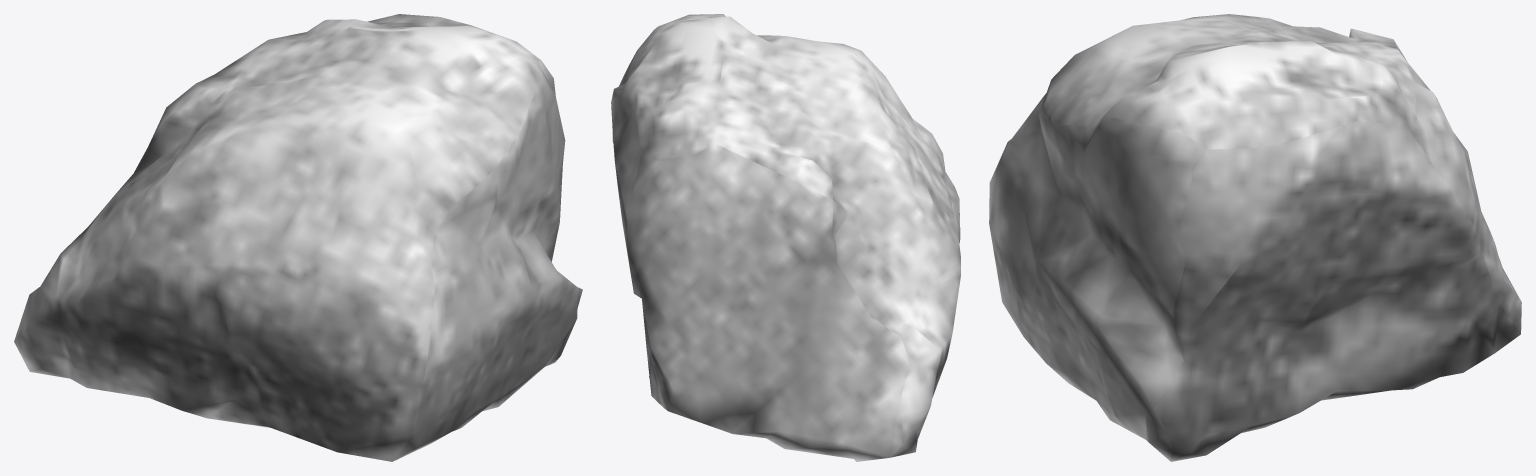
File: boulder-fieldstone-dome-lod2.glb
The picture shows the model from 3 angles, left to right: view 1: azimuth 30°, elevation 25°; view 2: azimuth 150°, elevation 25°; view 3: azimuth 270°, elevation 25°; orthographic projection. The views are drawn at different scales.
Visible parts, largest first — view 1: boulder_04; view 2: boulder_04; view 3: boulder_04.
Part boxes in pixels (x1,y1,x2,y2): boulder_04: (14, 14, 582, 461); boulder_04: (611, 14, 960, 461); boulder_04: (989, 14, 1521, 461).
Bounding box in the file's own units: 2.51 × 1.89 × 2.47.
1 material, 1 textured.
